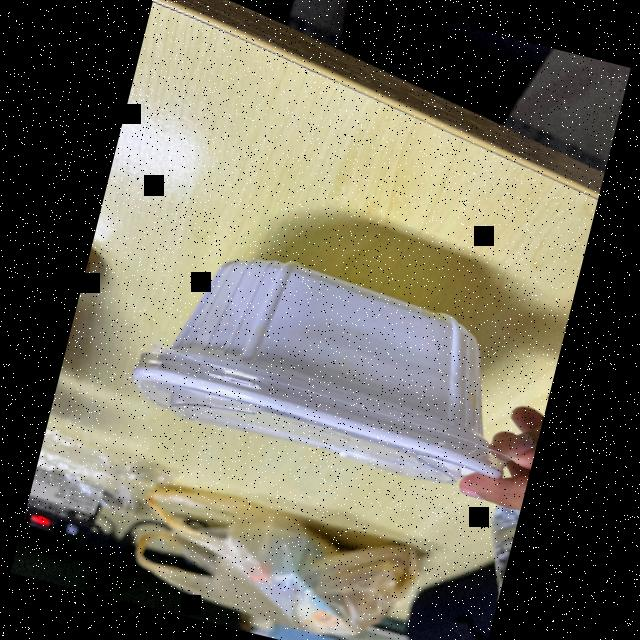plastic_box: (104, 221, 556, 534)
